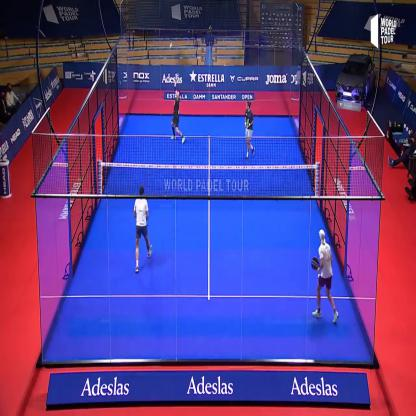ball: (167, 38, 174, 51)
